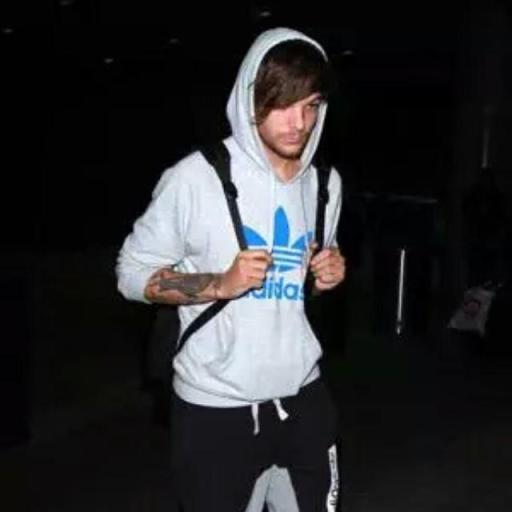Adidas: (238, 201, 322, 302)
